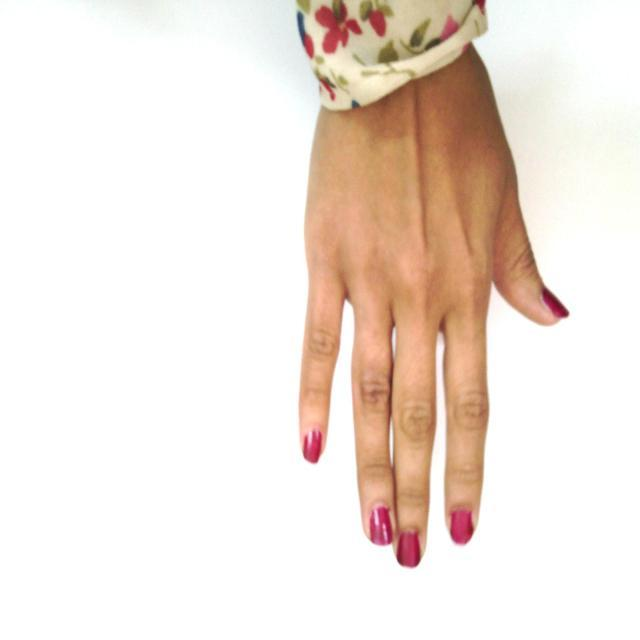Fingernail: (370, 506, 393, 546), (396, 532, 421, 568), (450, 509, 474, 545), (543, 287, 570, 317), (303, 431, 321, 466)
